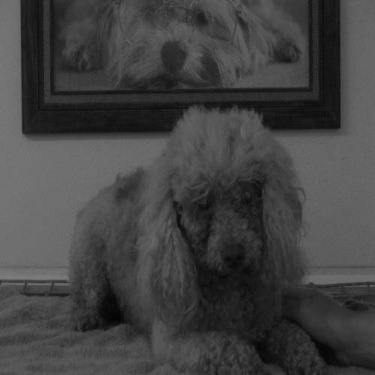dog: (59, 99, 335, 370), (51, 1, 307, 88)
